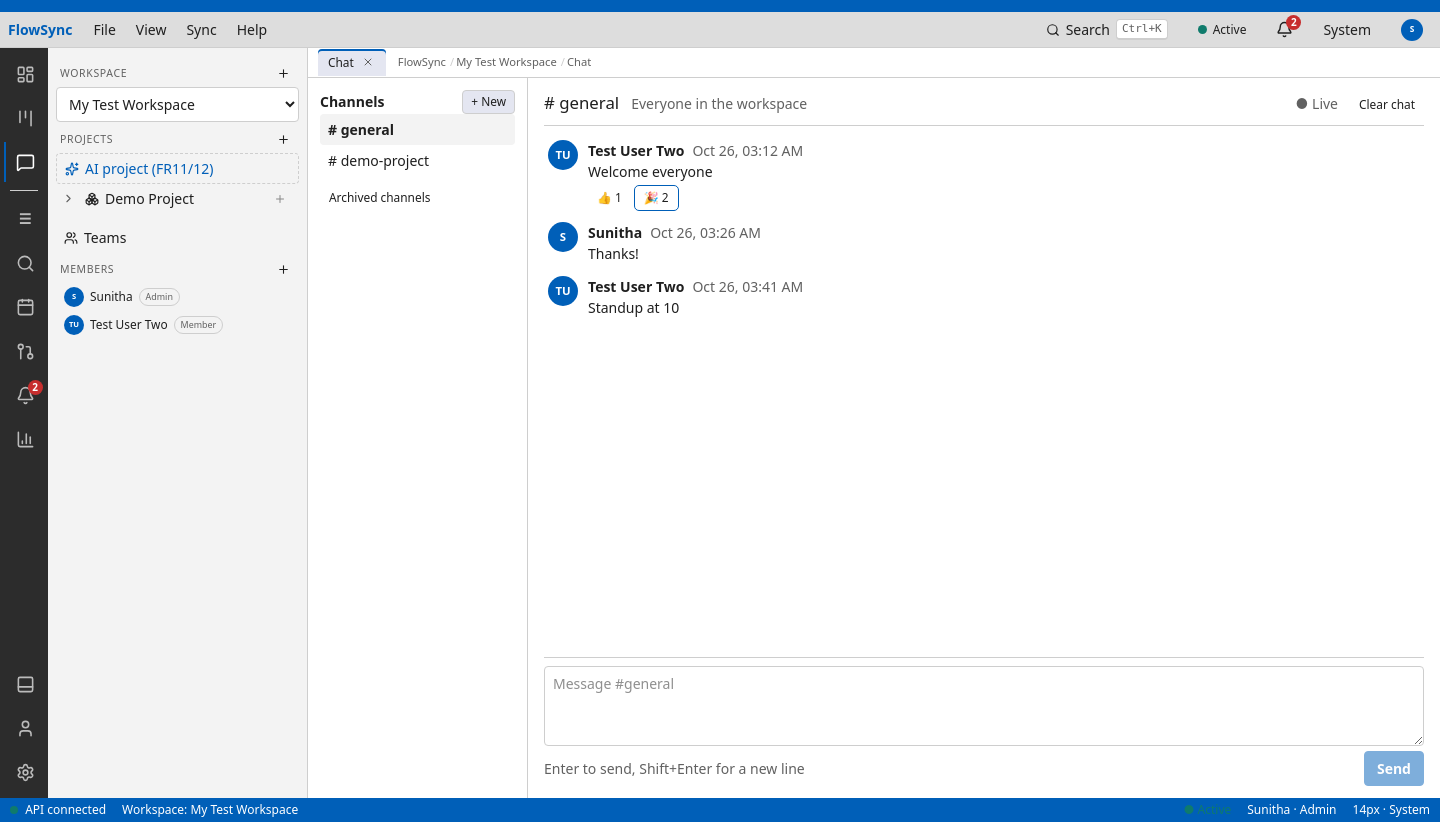
FR28: reactions on chat messages › a click on a reaction adds yours, another click takes it back
Check: the text "Welcome everyone" is shown, box x1=588 y1=162 x2=713 y2=181
Click the button "👍 1": (609, 198) x1=588 y1=186 x2=631 y2=210
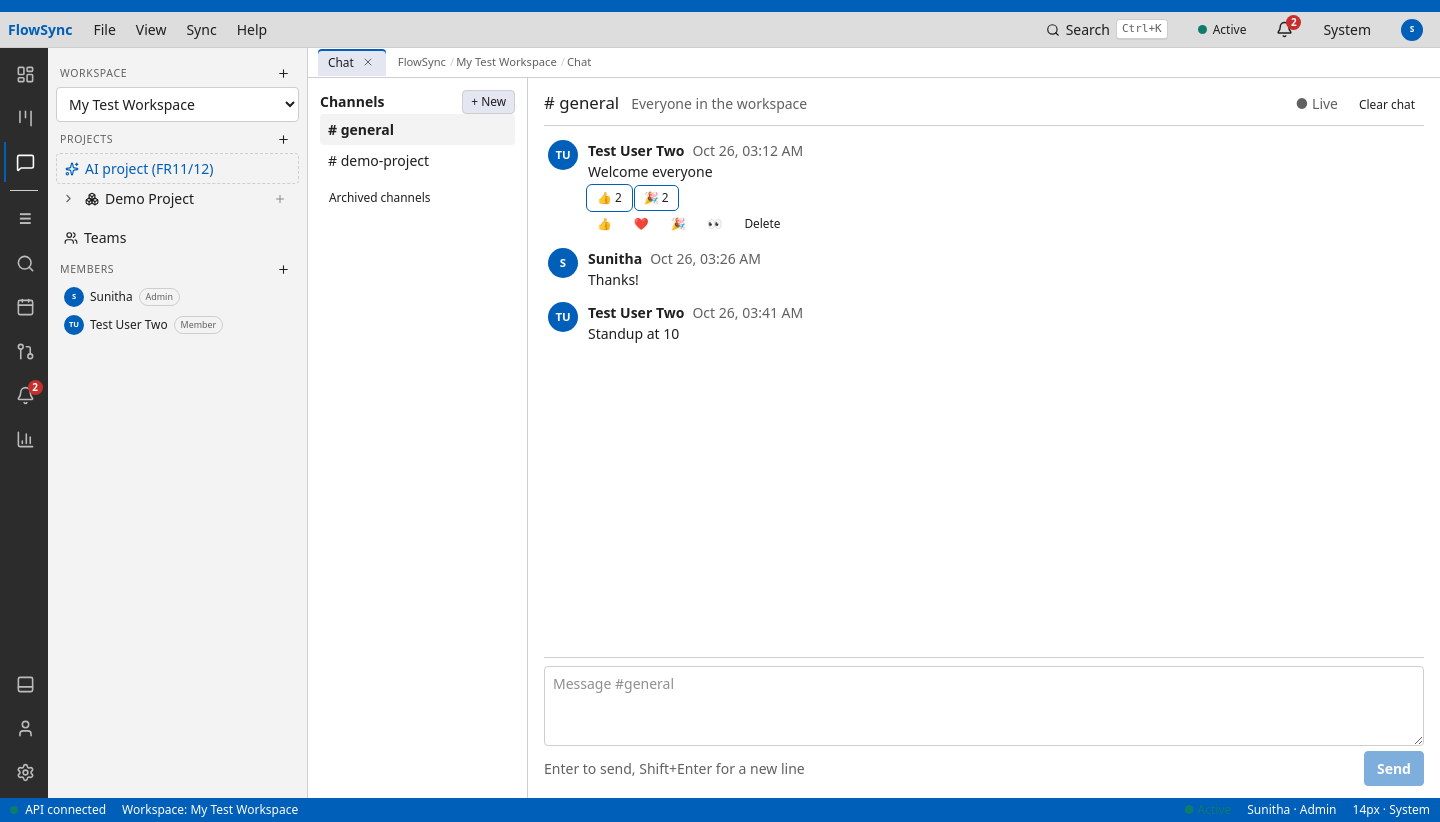
Check: the button named "👍 2, you reacted" is pressed
Click the button named "👍 2, you reacted": (609, 198) x1=588 y1=186 x2=631 y2=210
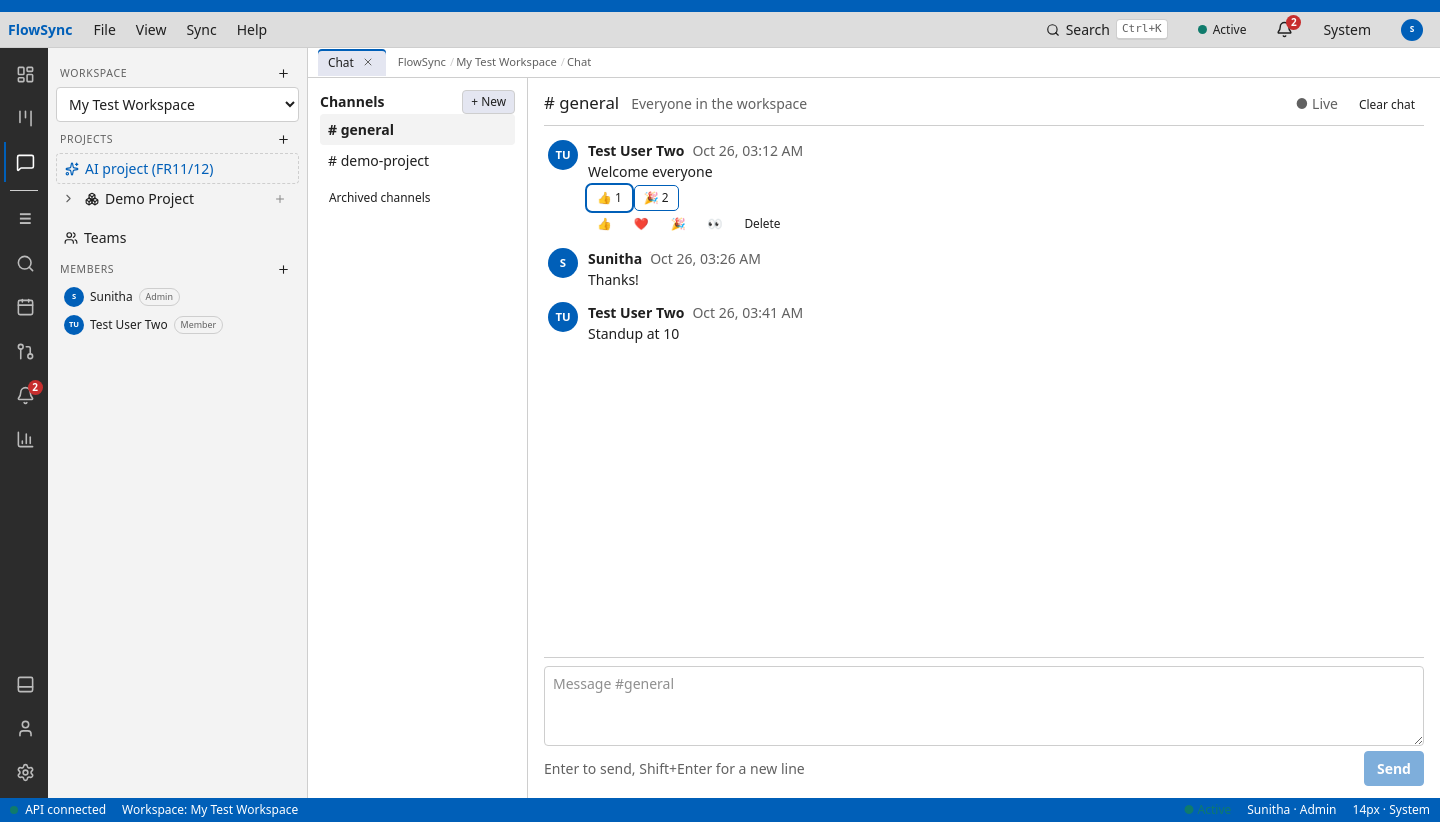
Check: the button "👍 1" is not pressed, box x1=588 y1=186 x2=631 y2=210
Click the button named "🎉 2, you reacted": (656, 198) x1=635 y1=186 x2=678 y2=210
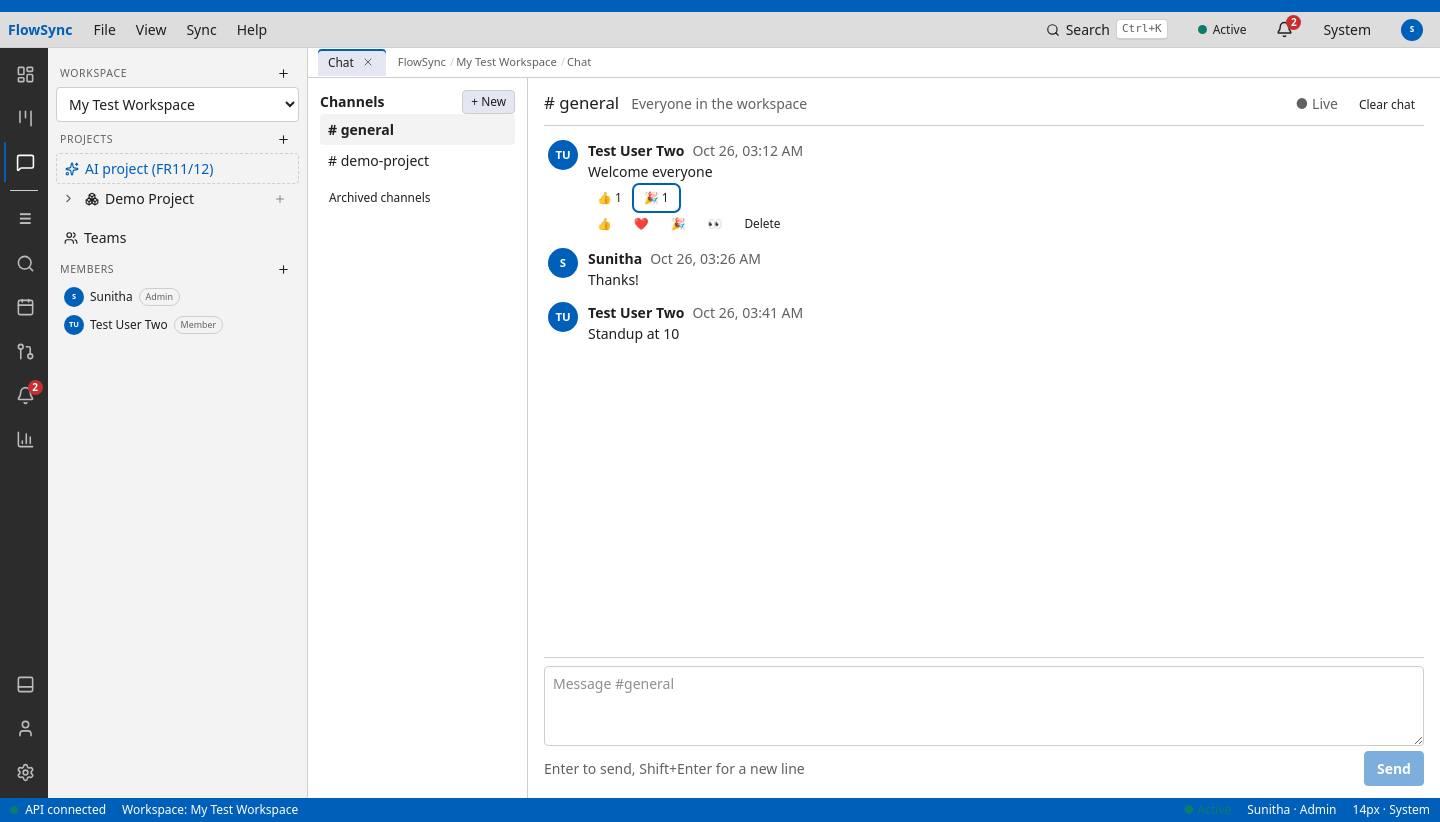
Check: the button "🎉 1" is shown, box x1=635 y1=186 x2=678 y2=210
